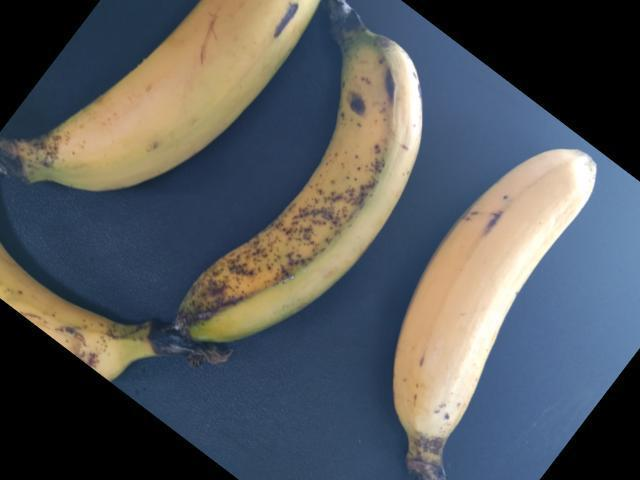freshripe: (383, 154, 600, 462)
ripe: (175, 44, 430, 371), (35, 0, 302, 209)
